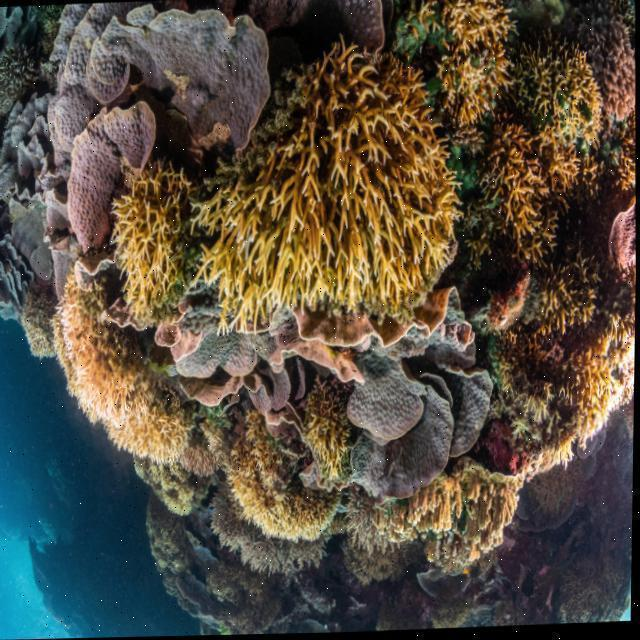Healthy Coral: (213, 44, 474, 319), (23, 0, 305, 246), (51, 277, 204, 464), (341, 340, 506, 498), (526, 285, 637, 497), (340, 475, 526, 571), (507, 41, 616, 164), (419, 0, 522, 125), (484, 109, 560, 239), (236, 429, 319, 547), (601, 9, 638, 173), (608, 191, 638, 279), (522, 337, 561, 371)
